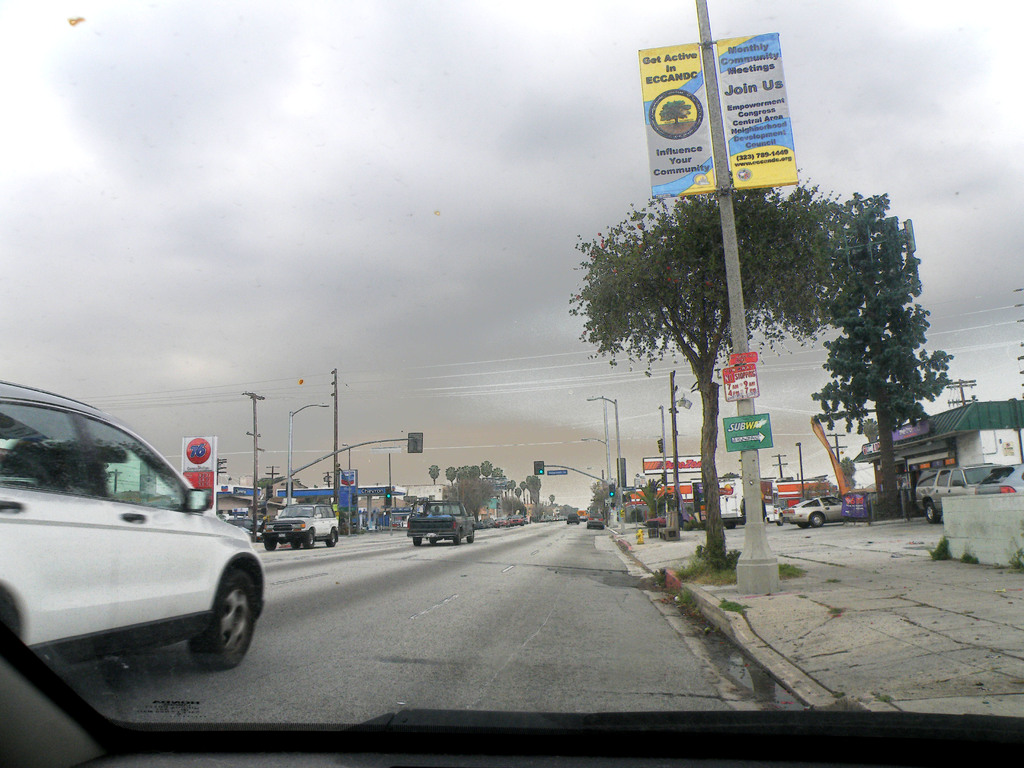Car: (0, 0, 1023, 767), (0, 377, 266, 670), (263, 501, 339, 550)
